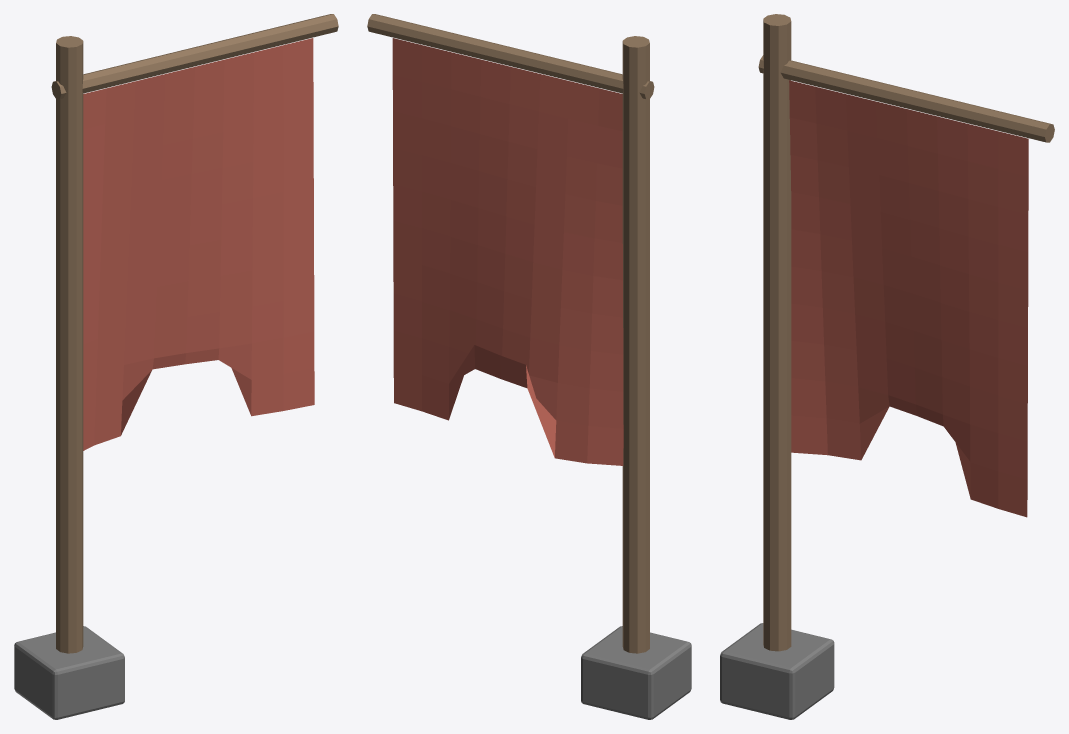
The model's file is banner-red.glb.
3 views of the same model, side by side, from view 1: azimuth 30°, elevation 25°; view 2: azimuth 150°, elevation 25°; view 3: azimuth 330°, elevation 25° (orthographic). The views are drawn at different scales.
Parts seen in each view (by area): view 1: cloth, pole, base, bar; view 2: cloth, pole, base, bar; view 3: cloth, pole, base, bar.
Part boxes in pixels (x1,y1,x2,y2): cloth: (83, 38, 314, 450); pole: (56, 36, 83, 653); base: (14, 626, 124, 719); bar: (51, 14, 338, 99); cloth: (392, 38, 623, 465); pole: (622, 36, 649, 653); base: (581, 626, 691, 719); bar: (367, 14, 654, 99); cloth: (789, 80, 1028, 517); pole: (763, 14, 791, 651); base: (720, 623, 834, 719); bar: (758, 55, 1054, 142).
Size of the model in its own units: 1.24 by 2.6 by 0.3.
Materials: 3 (1 with a texture image).
